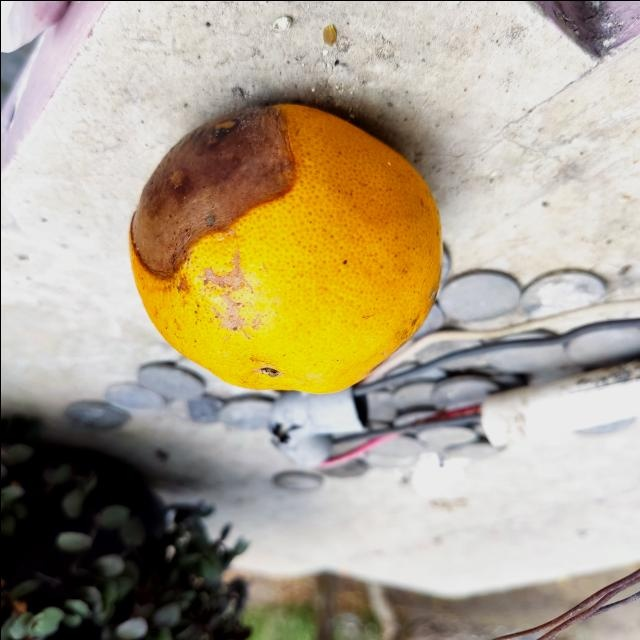agrume: (121, 100, 445, 396)
